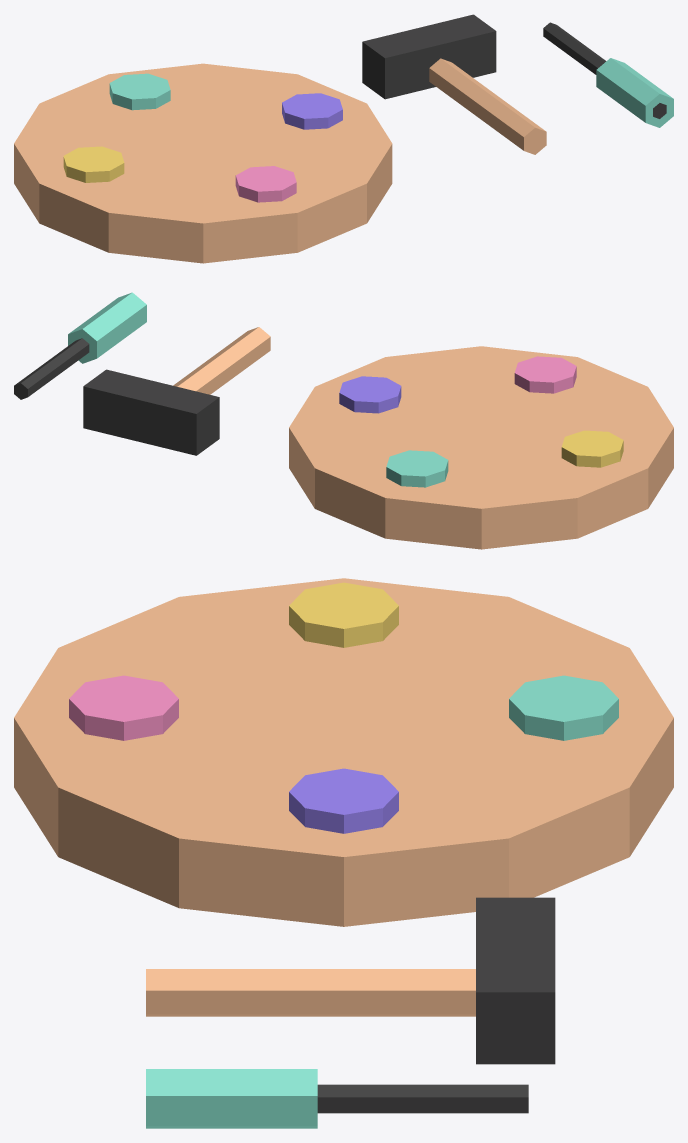
3 renders of one model, top to bottom at view 1: azimuth 30°, elevation 25°; view 2: azimuth 150°, elevation 25°; view 3: azimuth 270°, elevation 25°, orthographic. The views are drawn at different scales.
Visible parts, largest first — view 1: Palette board, Hammer head, Hammer handle, Driver grip, Paint patch.001, Paint patch.003, Paint patch.002, Paint patch, Screwdriver; view 2: Palette board, Hammer head, Driver grip, Hammer handle, Paint patch.003, Paint patch, Paint patch.002, Paint patch.001, Screwdriver; view 3: Palette board, Hammer handle, Hammer head, Driver grip, Screwdriver, Paint patch, Paint patch.001, Paint patch.002, Paint patch.003.
Part boxes in pixels (bbox=[...]): Palette board: bbox=[14, 63, 392, 263]; Hammer head: bbox=[362, 14, 496, 99]; Hammer handle: bbox=[429, 58, 546, 154]; Driver grip: bbox=[596, 58, 673, 127]; Paint patch.001: bbox=[109, 73, 170, 110]; Paint patch.003: bbox=[235, 166, 296, 202]; Paint patch.002: bbox=[63, 146, 124, 182]; Paint patch: bbox=[282, 93, 342, 129]; Screwdriver: bbox=[543, 22, 666, 118]; Palette board: bbox=[289, 346, 673, 549]; Hammer head: bbox=[83, 369, 219, 455]; Driver grip: bbox=[68, 292, 146, 363]; Hammer handle: bbox=[173, 327, 270, 394]; Paint patch.003: bbox=[514, 356, 576, 393]; Paint patch: bbox=[339, 376, 401, 413]; Paint patch.002: bbox=[561, 430, 623, 467]; Paint patch.001: bbox=[386, 450, 448, 487]; Screwdriver: bbox=[14, 338, 89, 399]; Palette board: bbox=[14, 578, 673, 926]; Hammer handle: bbox=[146, 969, 475, 1016]; Hammer head: bbox=[476, 897, 555, 1064]; Driver grip: bbox=[146, 1069, 317, 1128]; Screwdriver: bbox=[317, 1084, 528, 1113]; Paint patch: bbox=[289, 768, 398, 833]; Paint patch.001: bbox=[509, 675, 618, 740]; Paint patch.002: bbox=[289, 582, 398, 647]; Paint patch.003: bbox=[69, 675, 178, 740].
Size of the model in its own units: 52.9 by 4.5 by 30.
